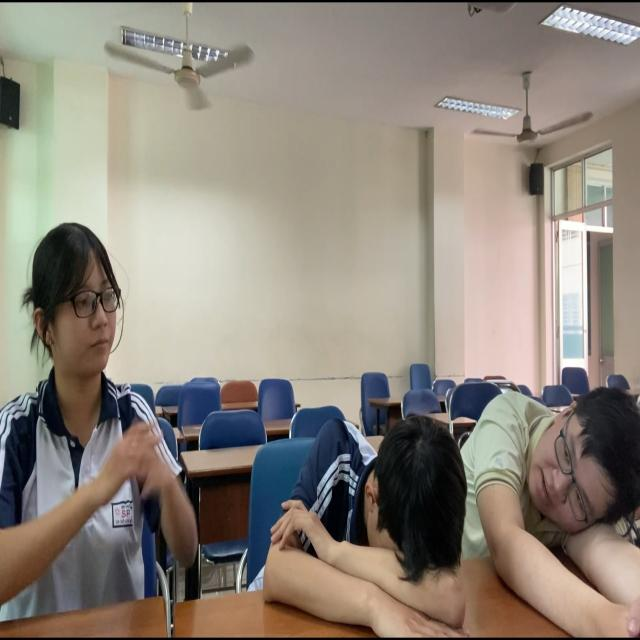sleep: (257, 398, 480, 640), (460, 378, 640, 608)
